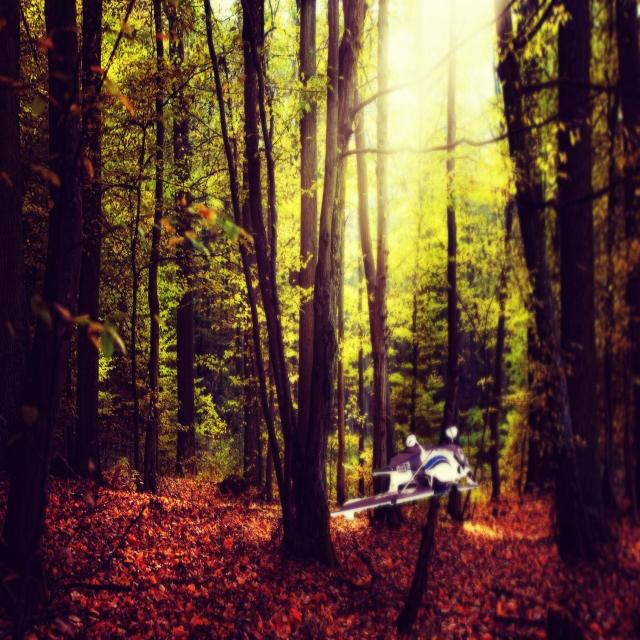airplane: (330, 424, 480, 520)
